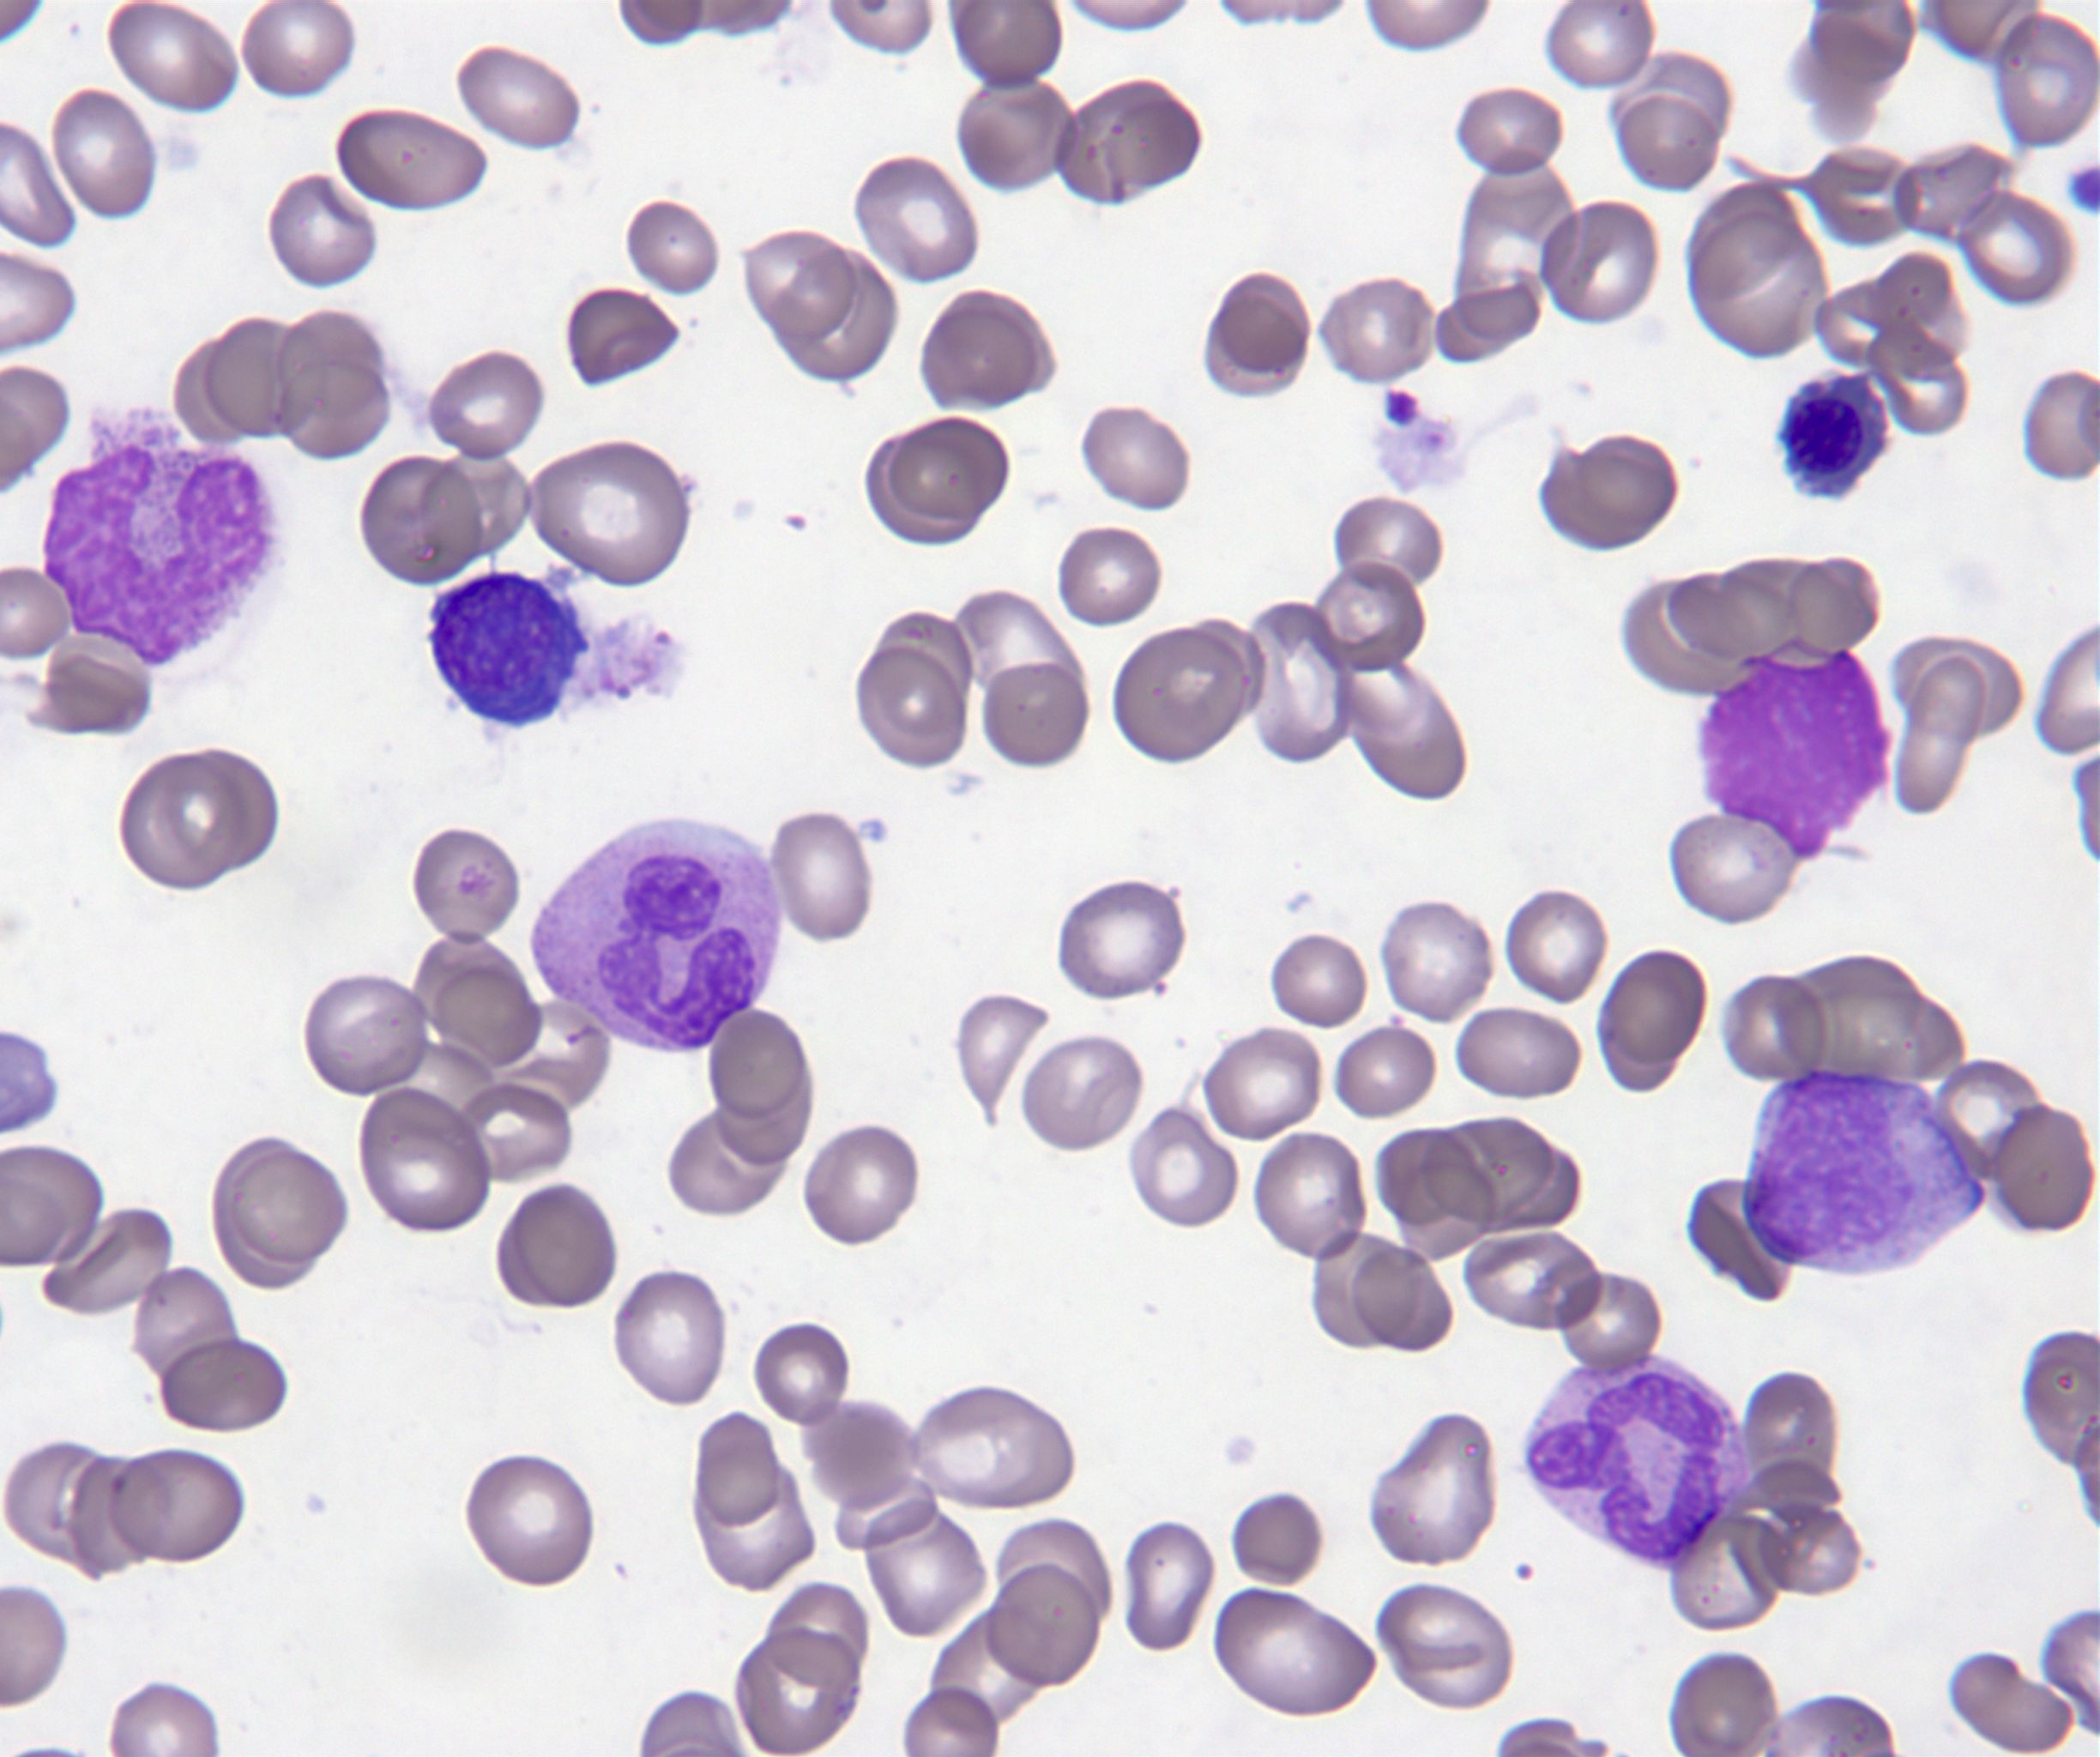23: (429, 569, 593, 729)
24: (1774, 370, 1894, 502)
3: (1741, 1066, 1987, 1279)
6: (528, 824, 783, 1056), (1524, 1356, 1751, 1565)
x: (44, 407, 279, 668), (1701, 646, 1896, 862)
